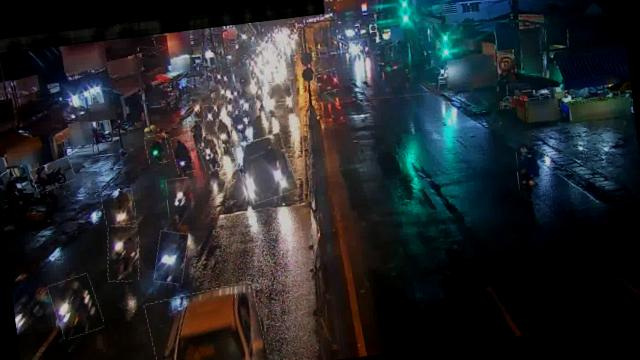Bike: (48, 274, 102, 339), (102, 222, 142, 283), (150, 228, 190, 286), (30, 158, 75, 192), (101, 187, 137, 226), (165, 177, 192, 218), (171, 134, 195, 173), (516, 150, 539, 190), (197, 134, 219, 171), (144, 133, 170, 164), (230, 112, 248, 141), (187, 118, 204, 148), (215, 118, 232, 147), (202, 105, 217, 131), (222, 96, 235, 117), (240, 95, 253, 116), (254, 85, 264, 101)
Car: (143, 281, 267, 360), (232, 133, 296, 204), (264, 81, 295, 116), (312, 68, 340, 93)
